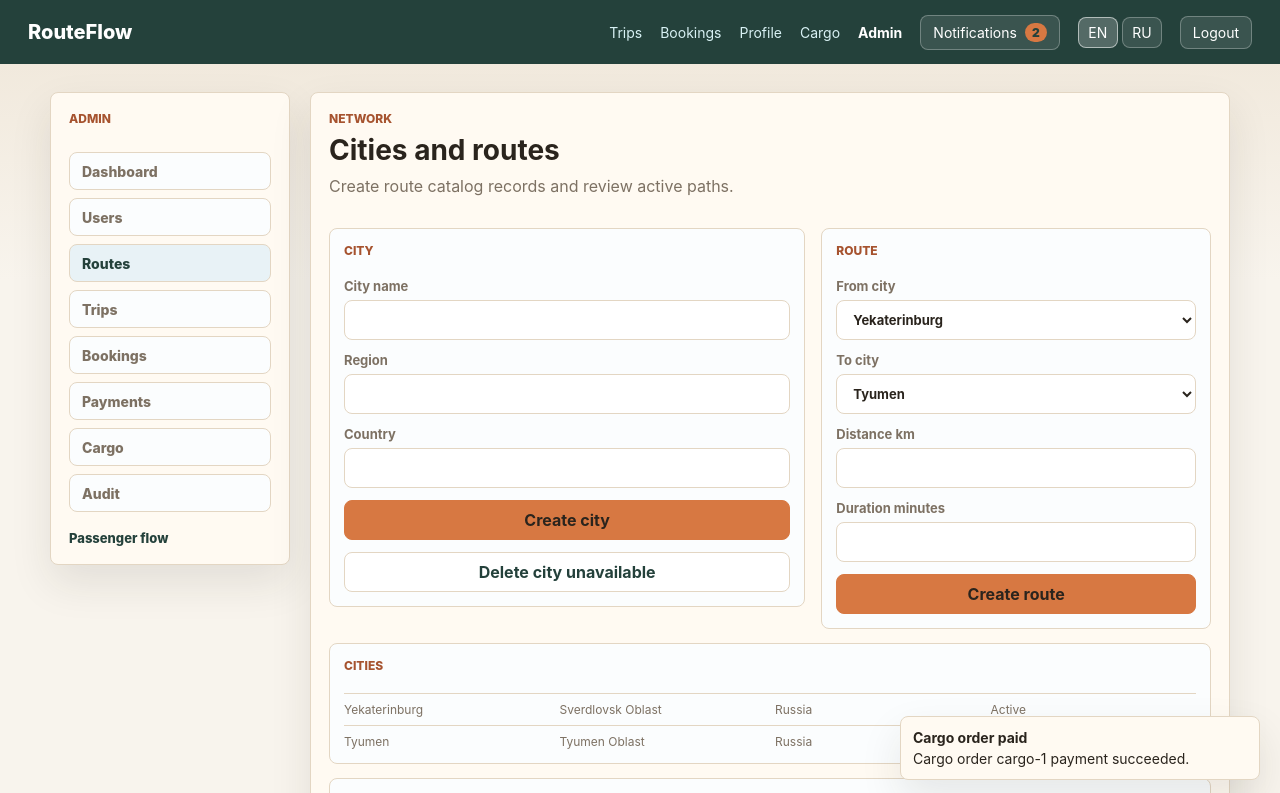
Test: App routes › creates a city from the admin routes screen and keeps delete disabled when backend lacks it
Check: the heading "Cities and routes" is shown, box [329,133,560,167]
Type "Perm" into the field labelled "City name" at (567, 320), box [344,300,790,340]
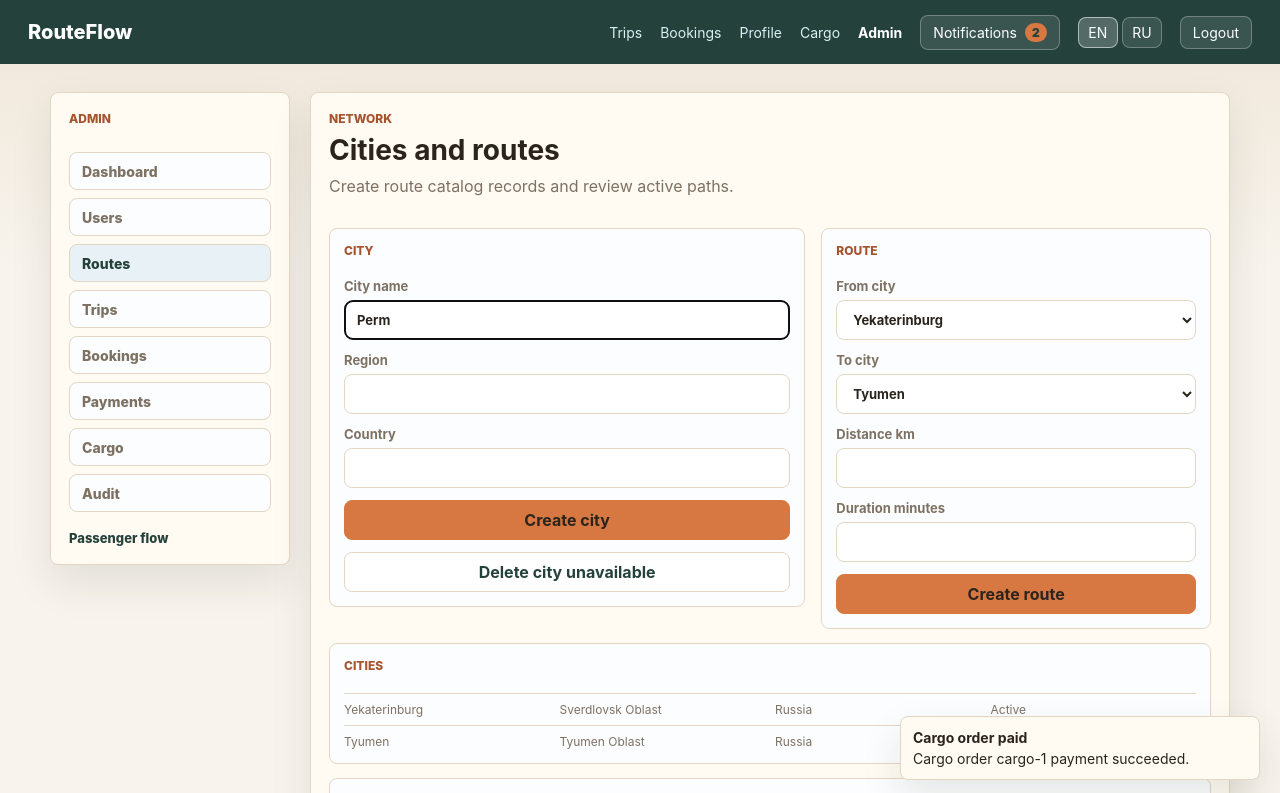
Type "Perm Krai" into the field labelled "Region" at (567, 394), box [344,374,790,414]
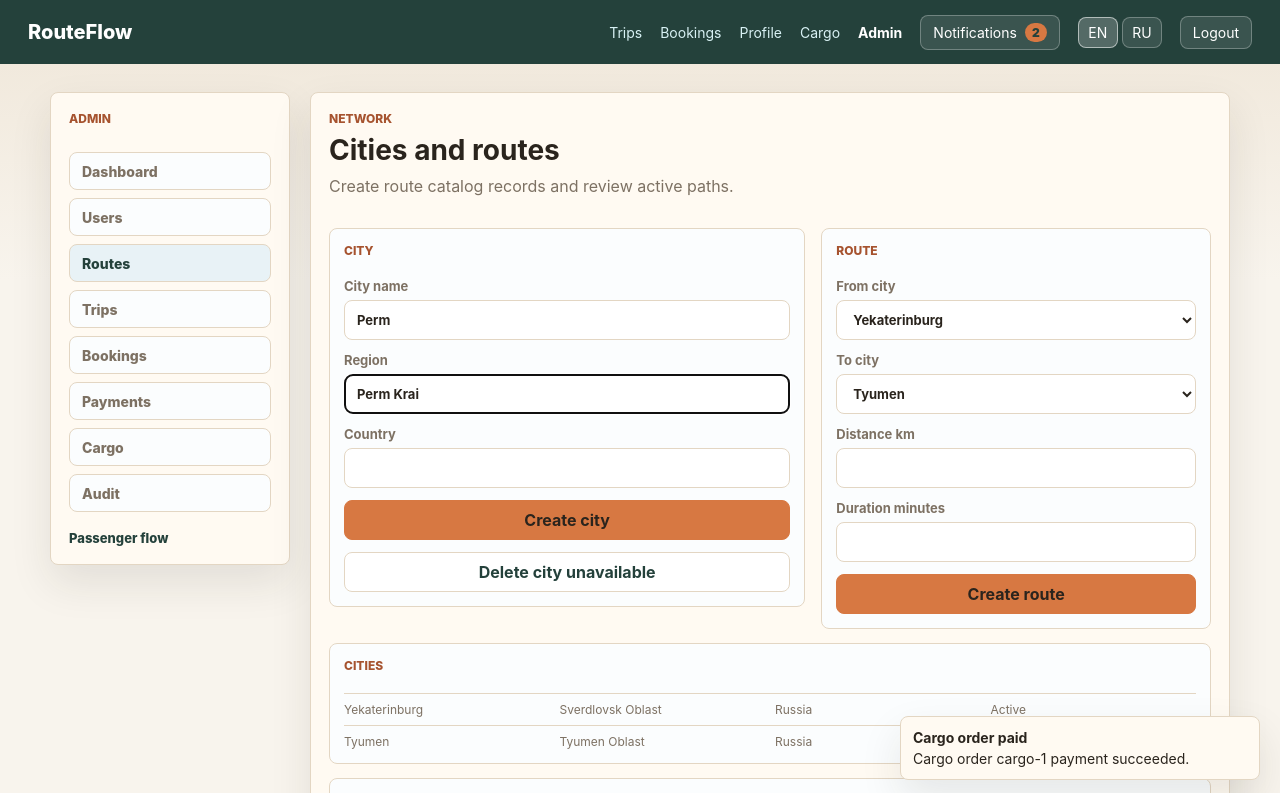
Type "Russia" into the field labelled "Country" at (567, 468), box [344,448,790,488]
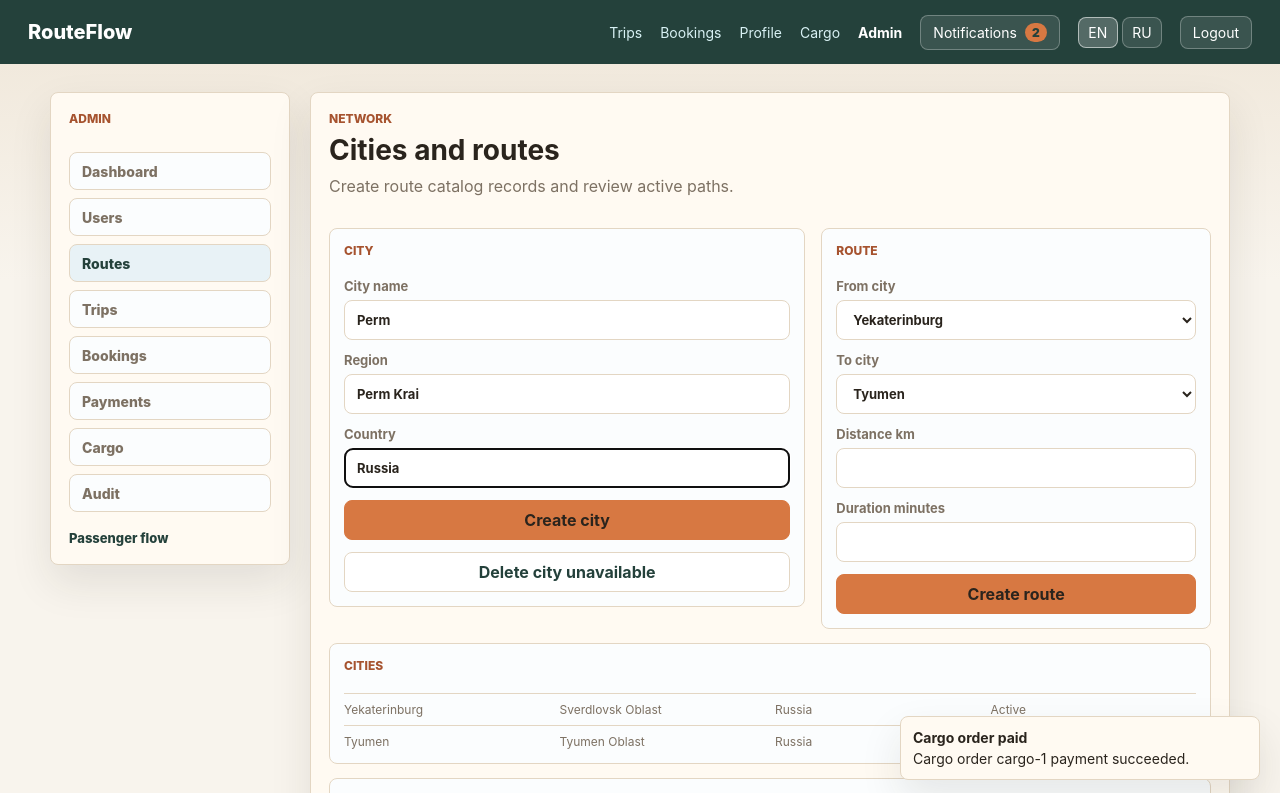
Click the button "Create city" at (567, 520), box [344,500,790,540]
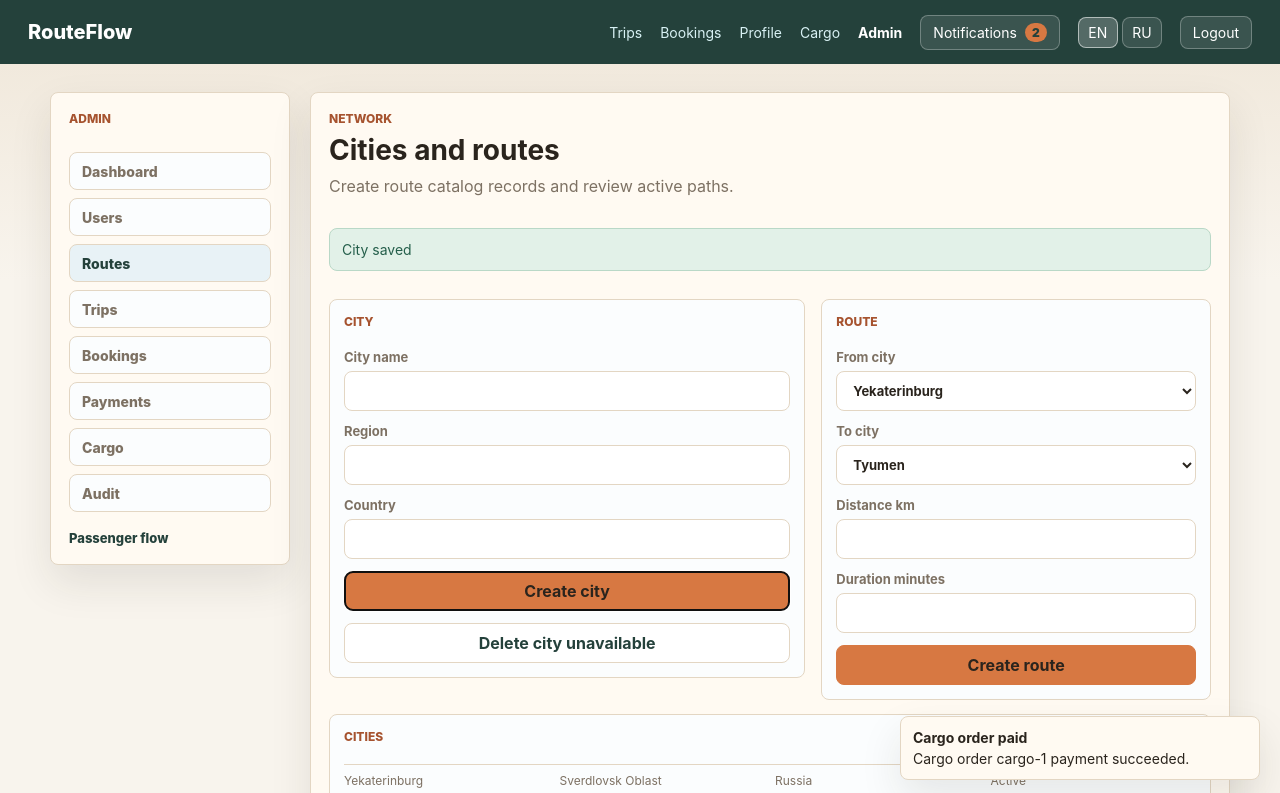
Check: the button "Delete city unavailable" is disabled, box [344,623,790,663]
Check: the text "City saved" is shown, box [329,228,1211,271]
